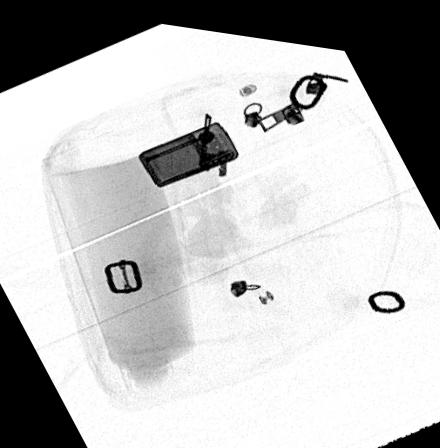Lighter: (137, 113, 239, 182)
